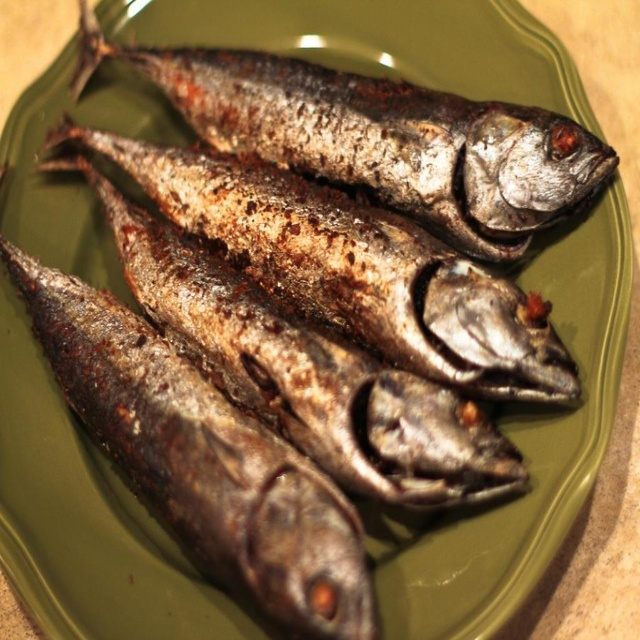Fish: (32, 173, 532, 518), (31, 102, 584, 397), (65, 0, 616, 271), (0, 238, 369, 640)
